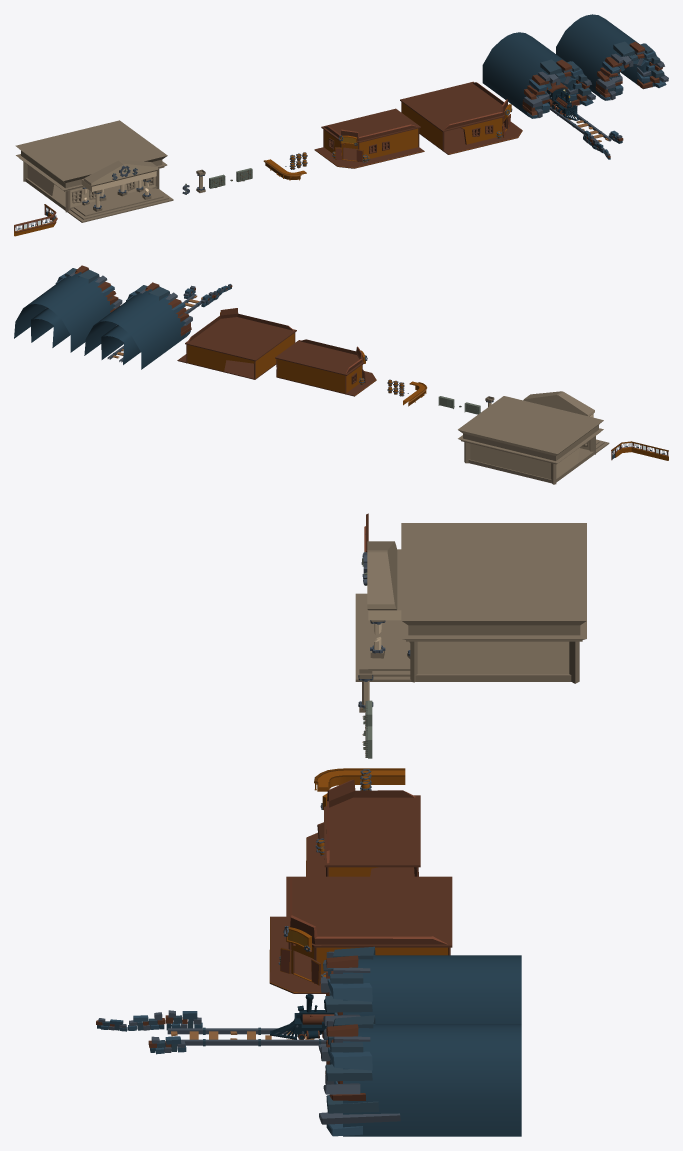
The model's file is semana_5.fbx.
The picture shows the model from 3 angles, top to bottom: view 1: azimuth 30°, elevation 25°; view 2: azimuth 150°, elevation 25°; view 3: azimuth 270°, elevation 25°; orthographic projection. The views are drawn at different scales.
Parts seen in each view (by area): view 1: banco, bar_maior, entrada_caverna, entrada_caverna_pesada, bar, trem_steampunk, caixa_saque_banco, trilho_quebrado, bancada_bar; view 2: banco, entrada_caverna, bar_maior, entrada_caverna_pesada, bar, caixa_saque_banco; view 3: banco, entrada_caverna_pesada, bar_maior, entrada_caverna, bar, trilho_quebrado, bancada_bar, trem_steampunk.
Part boxes in pixels (x1,y1,x2,y2): banco: [15, 120, 173, 222]; bar_maior: [400, 81, 522, 154]; entrada_caverna: [482, 32, 595, 118]; entrada_caverna_pesada: [556, 14, 668, 100]; bar: [314, 108, 424, 168]; trem_steampunk: [547, 82, 579, 120]; caixa_saque_banco: [14, 204, 57, 236]; trilho_quebrado: [549, 106, 611, 143]; bancada_bar: [263, 159, 306, 180]; banco: [458, 391, 609, 484]; entrada_caverna: [84, 282, 192, 369]; bar_maior: [177, 308, 296, 379]; entrada_caverna_pesada: [14, 265, 122, 352]; bar: [275, 339, 376, 396]; caixa_saque_banco: [611, 441, 668, 460]; banco: [355, 523, 586, 683]; entrada_caverna_pesada: [319, 1015, 521, 1136]; bar_maior: [269, 876, 452, 993]; entrada_caverna: [318, 946, 521, 1053]; bar: [306, 779, 420, 876]; trilho_quebrado: [167, 1027, 326, 1046]; bancada_bar: [314, 768, 405, 791]; trem_steampunk: [270, 994, 334, 1039].
Bounding box in the file's own units: 14095 × 958 × 4846.
